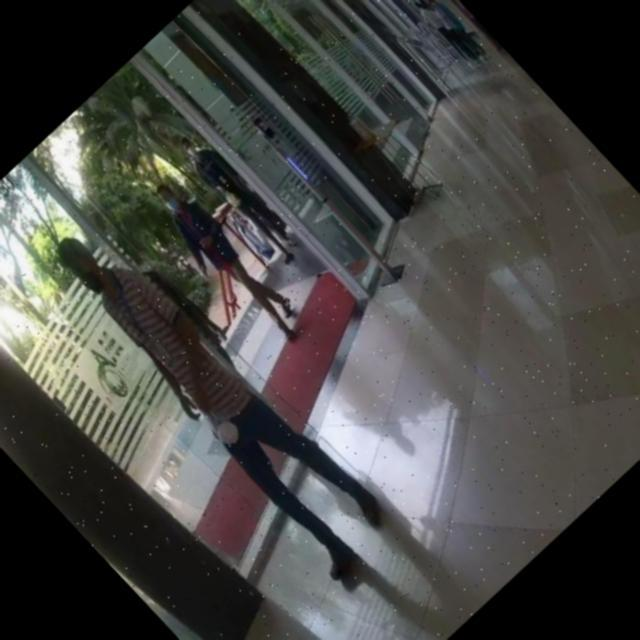person: (41, 204, 403, 583), (136, 172, 315, 358), (172, 125, 307, 266)
